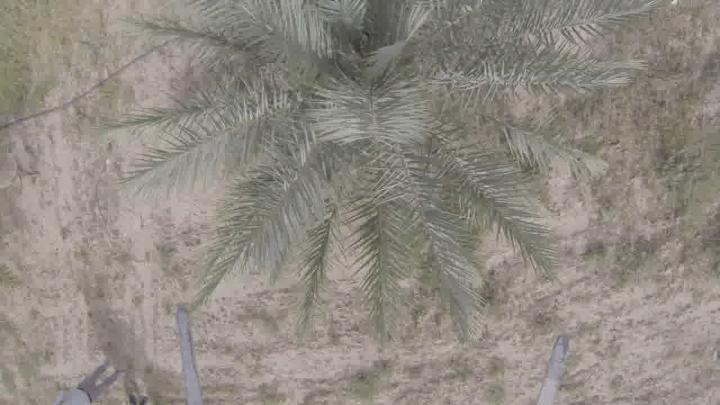Date-Palm-Crown: (246, 0, 496, 204)
